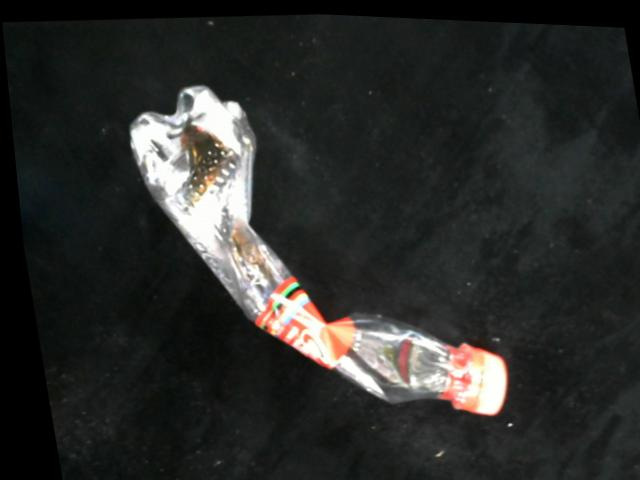bottle: (123, 79, 501, 414)
